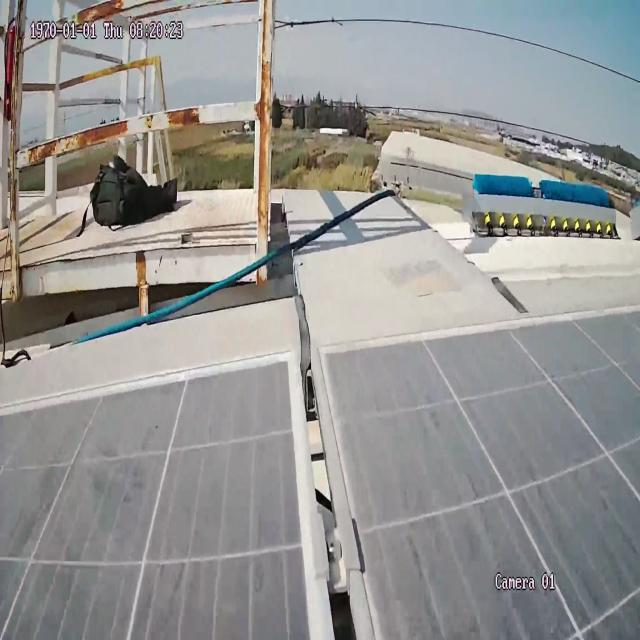interior panel: (269, 344, 423, 640)
